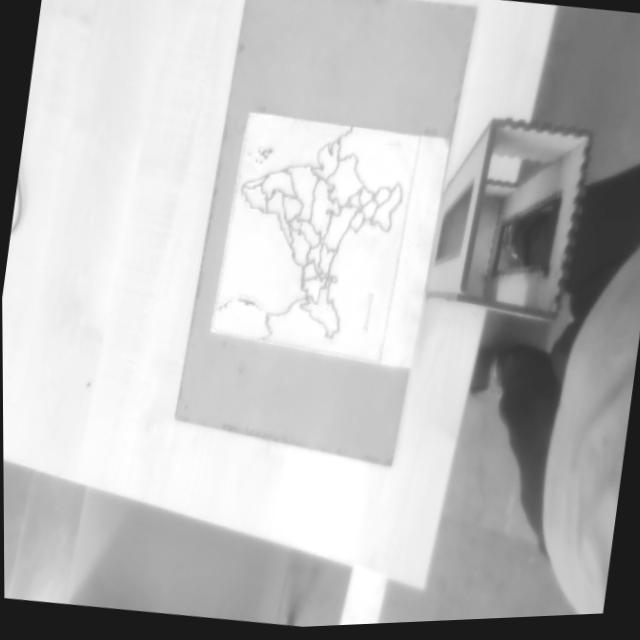map: (210, 106, 420, 366)
